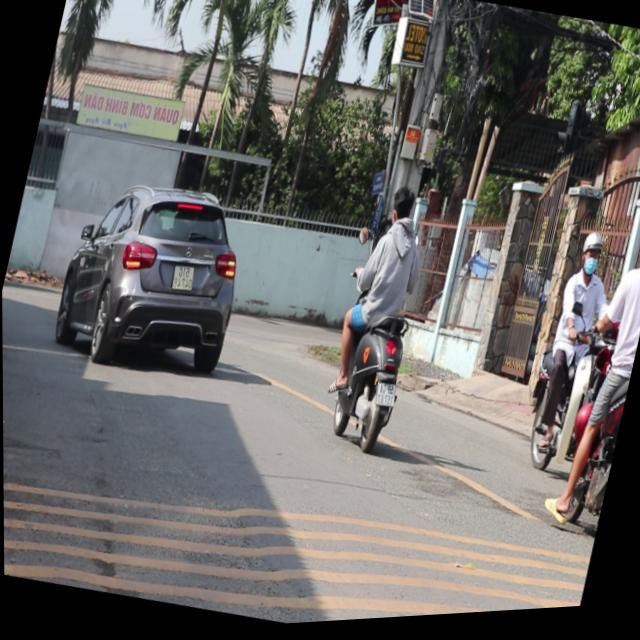helmet: (577, 232, 607, 283)
licenseplate: (312, 174, 447, 461), (543, 215, 640, 552), (511, 224, 627, 487)
motorcyclist: (387, 185, 420, 233)
nohelmet: (372, 384, 396, 411)
